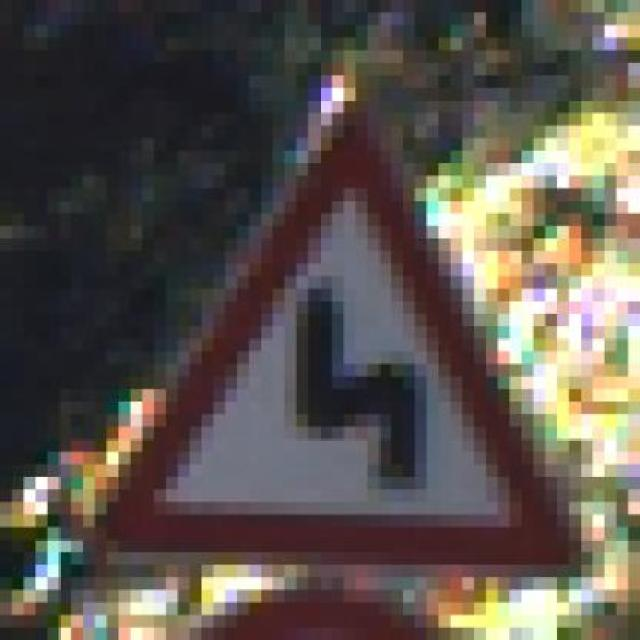Left Zig Zag Traffic: (83, 75, 605, 590)
